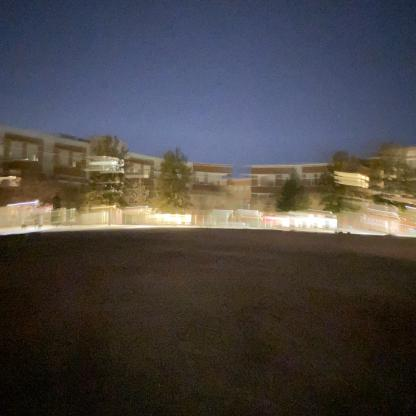eb2: (244, 154, 416, 238)
